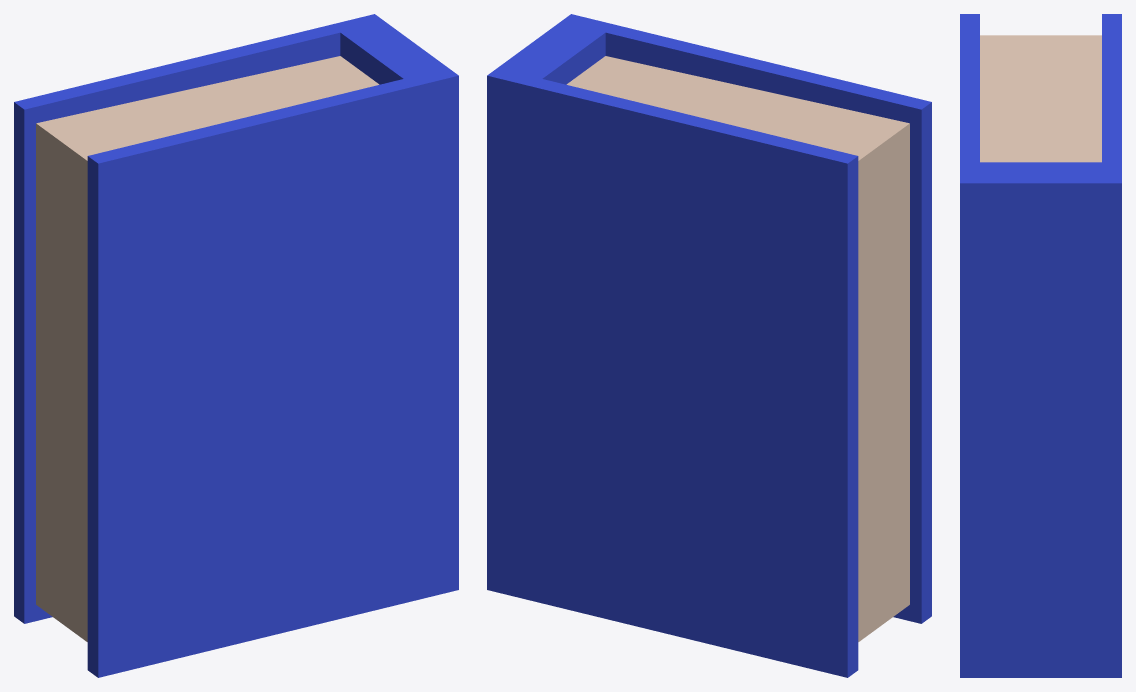
Rendered from Book1.fbx.
The picture shows the model from 3 angles, left to right: view 1: azimuth 30°, elevation 25°; view 2: azimuth 150°, elevation 25°; view 3: azimuth 270°, elevation 25°; orthographic projection. The views are drawn at different scales.
Visible parts, largest first — view 1: Cube.202; view 2: Cube.202; view 3: Cube.202.
Part boxes in pixels (box(x1,y1,x2,y2)): Cube.202: box(14, 14, 458, 677); Cube.202: box(487, 14, 931, 677); Cube.202: box(960, 14, 1121, 677).
Size of the model in its own units: 44.72 by 60.92 by 18.08.
